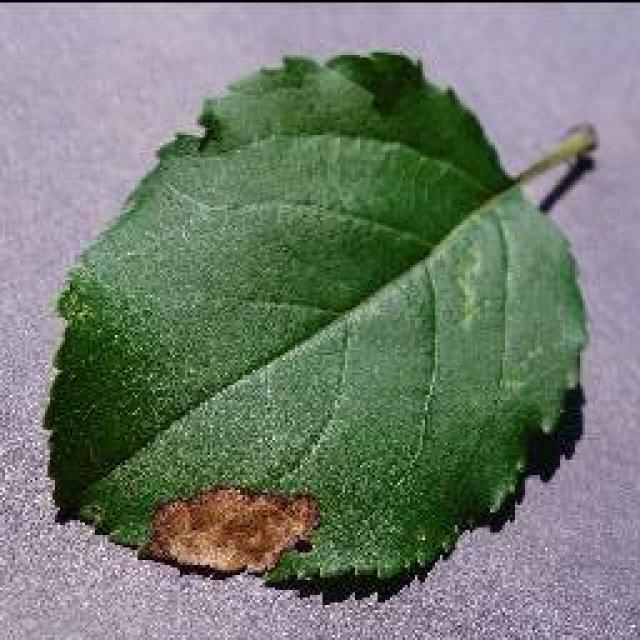apple scab disease: (40, 48, 598, 602)
